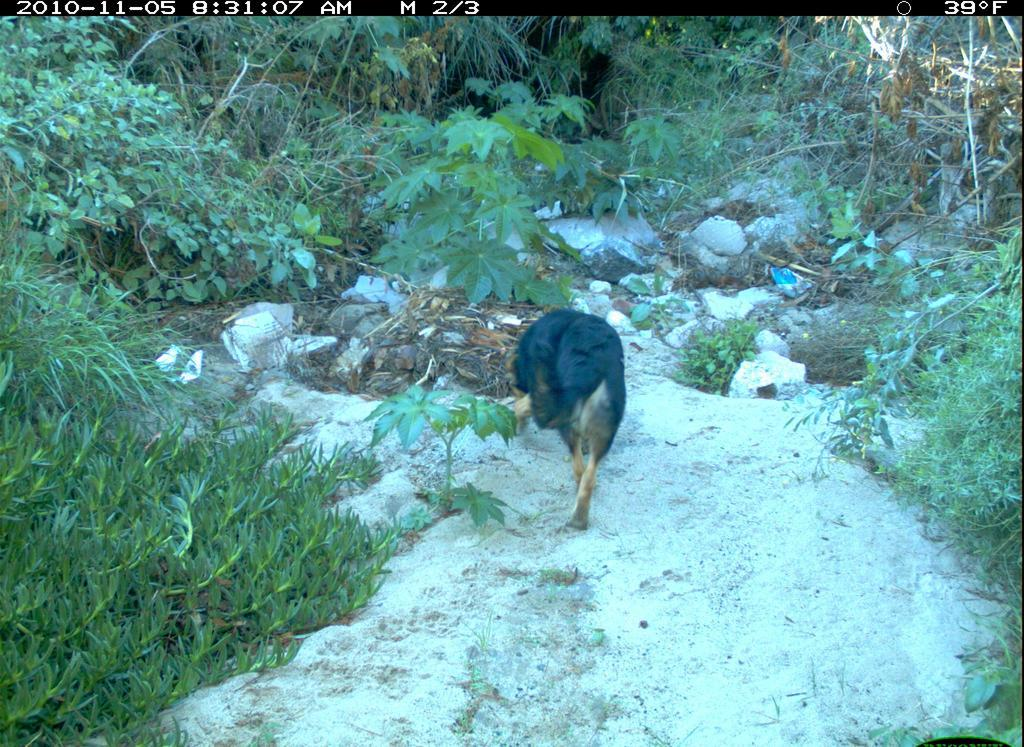dog: (505, 292, 644, 551)
